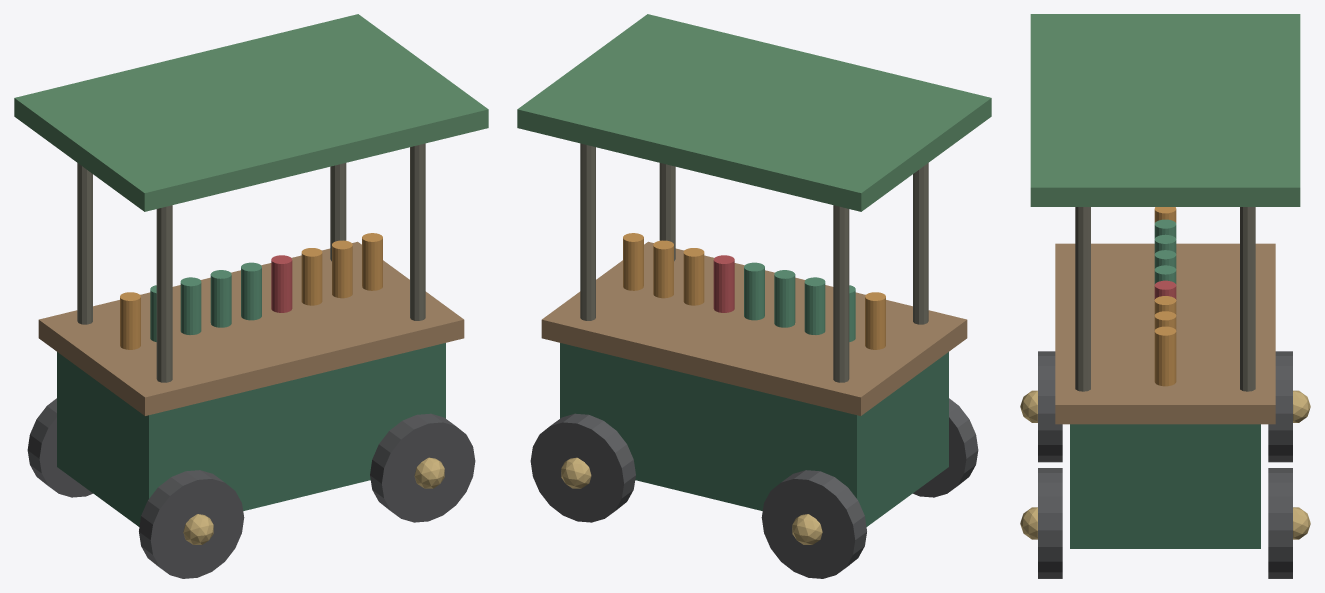
The model's file is beverage-cart.glb.
3 views of the same model, side by side, from view 1: azimuth 30°, elevation 25°; view 2: azimuth 150°, elevation 25°; view 3: azimuth 270°, elevation 25° (orthographic). The views are drawn at different scales.
Visible parts, largest first — view 1: world; view 2: world; view 3: world.
Boxes of the visible parts, x1,y1,x2,y2 form: world: (14,14,488,578); world: (517,14,991,578); world: (1020,14,1310,578).
Bounding box in the file's own units: 1.25 × 1.39 × 0.884.
